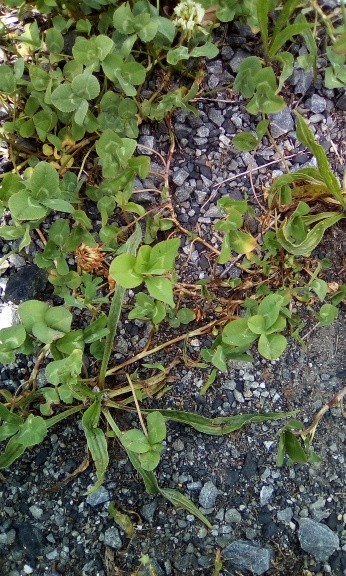4leaf: (109, 237, 181, 307), (221, 293, 289, 362), (122, 410, 168, 472)
